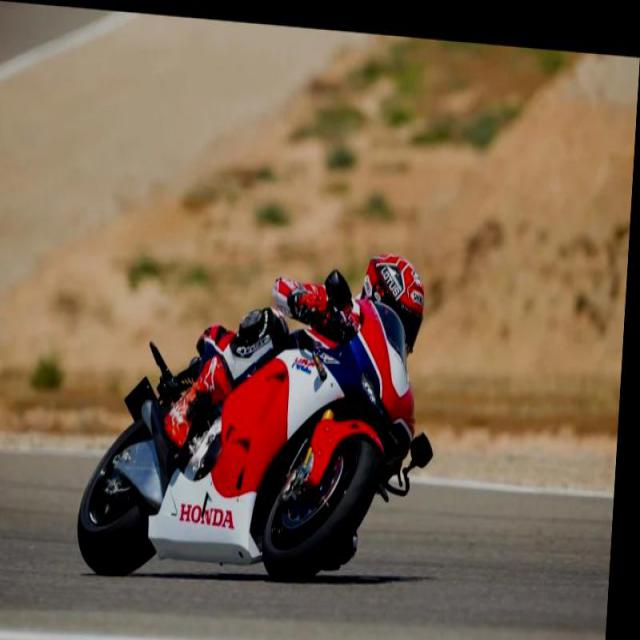HRC RCV 213: (82, 274, 429, 594)
